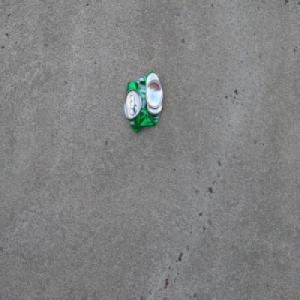SodaCan: (123, 70, 163, 133)
